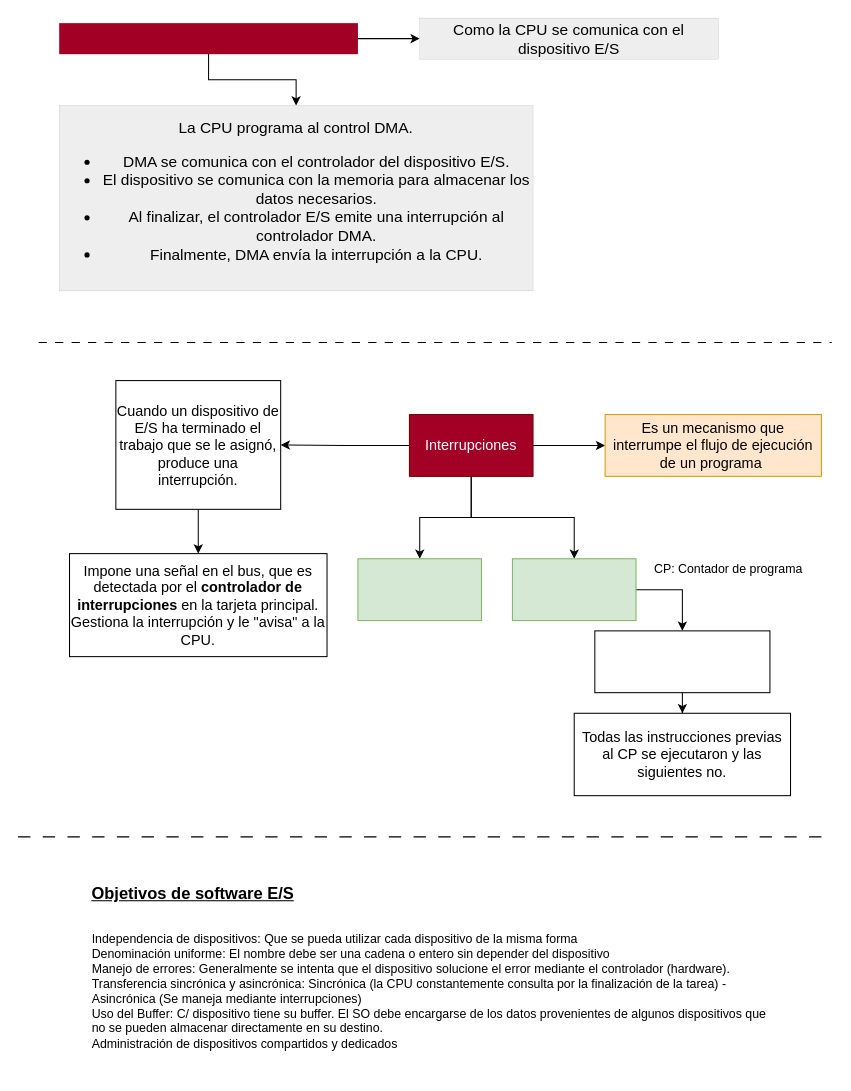
This 851x1091 diagram has some shape labels left out. The centre of each missing label's shape, as x and y in pixels:
Acceso directo a memoria (DMA): [208,38]
El CP siempre está disponible en un lugar conocido.: [682,661]
Imprecisas: [419,589]
Precisas: [573,589]
